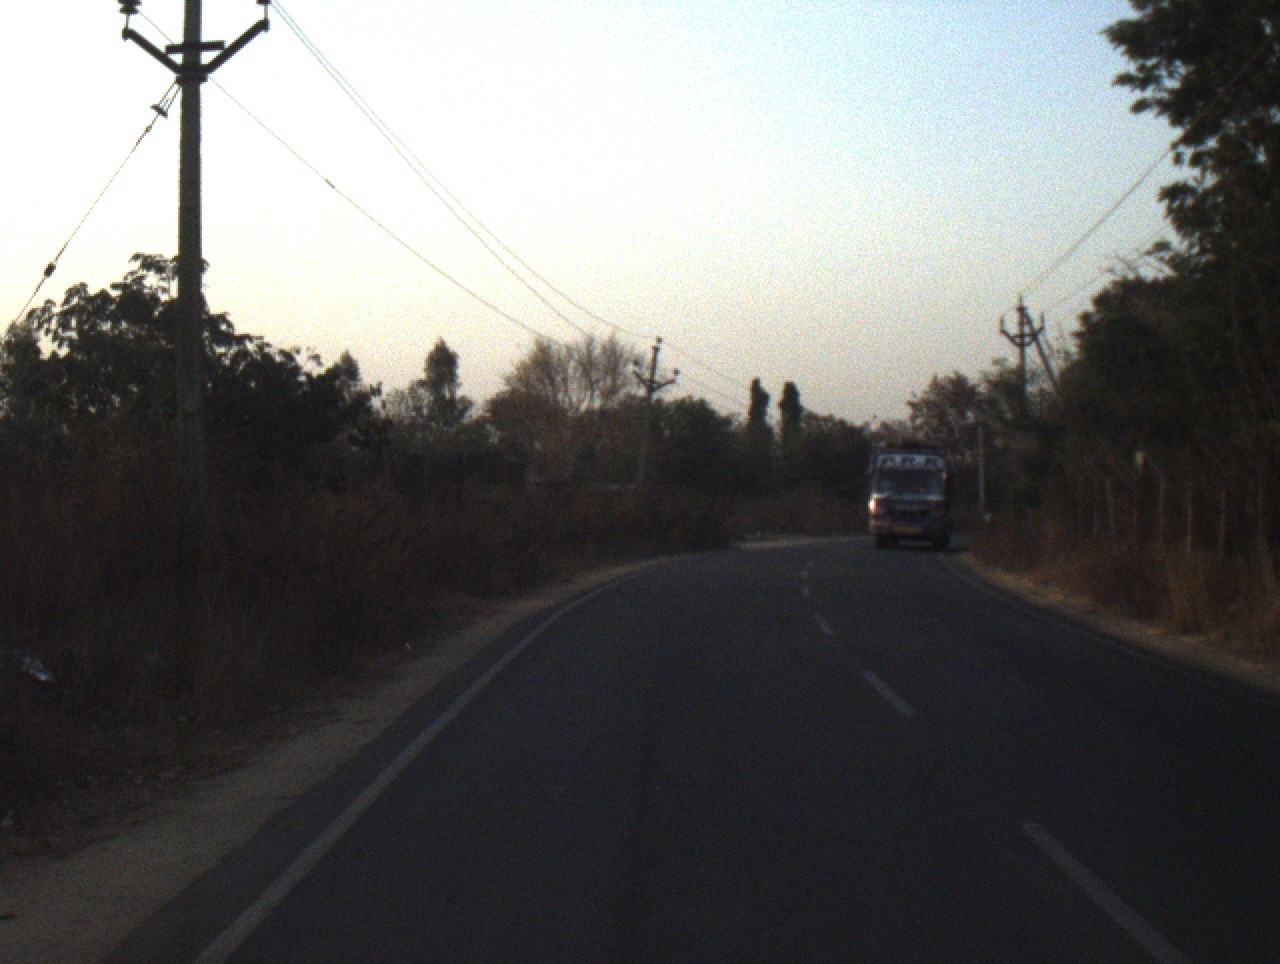bus: (855, 438, 957, 558)
